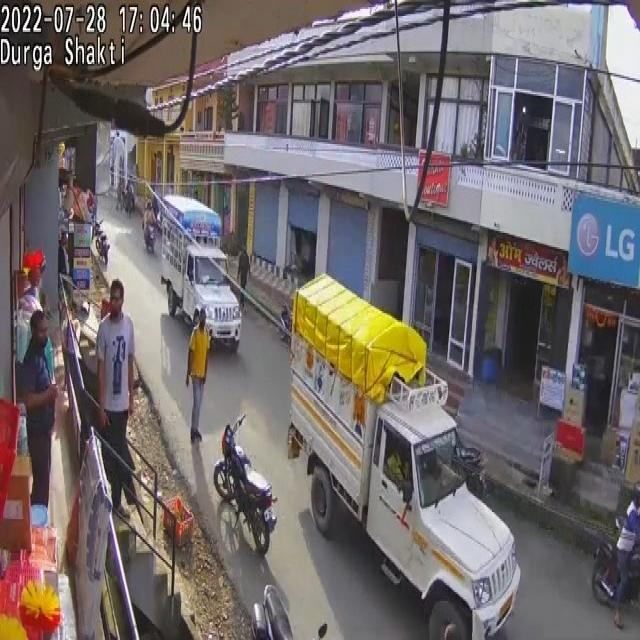non-fight: (95, 279, 136, 518), (18, 311, 58, 514), (612, 480, 639, 626), (186, 304, 210, 441), (237, 244, 250, 308)
